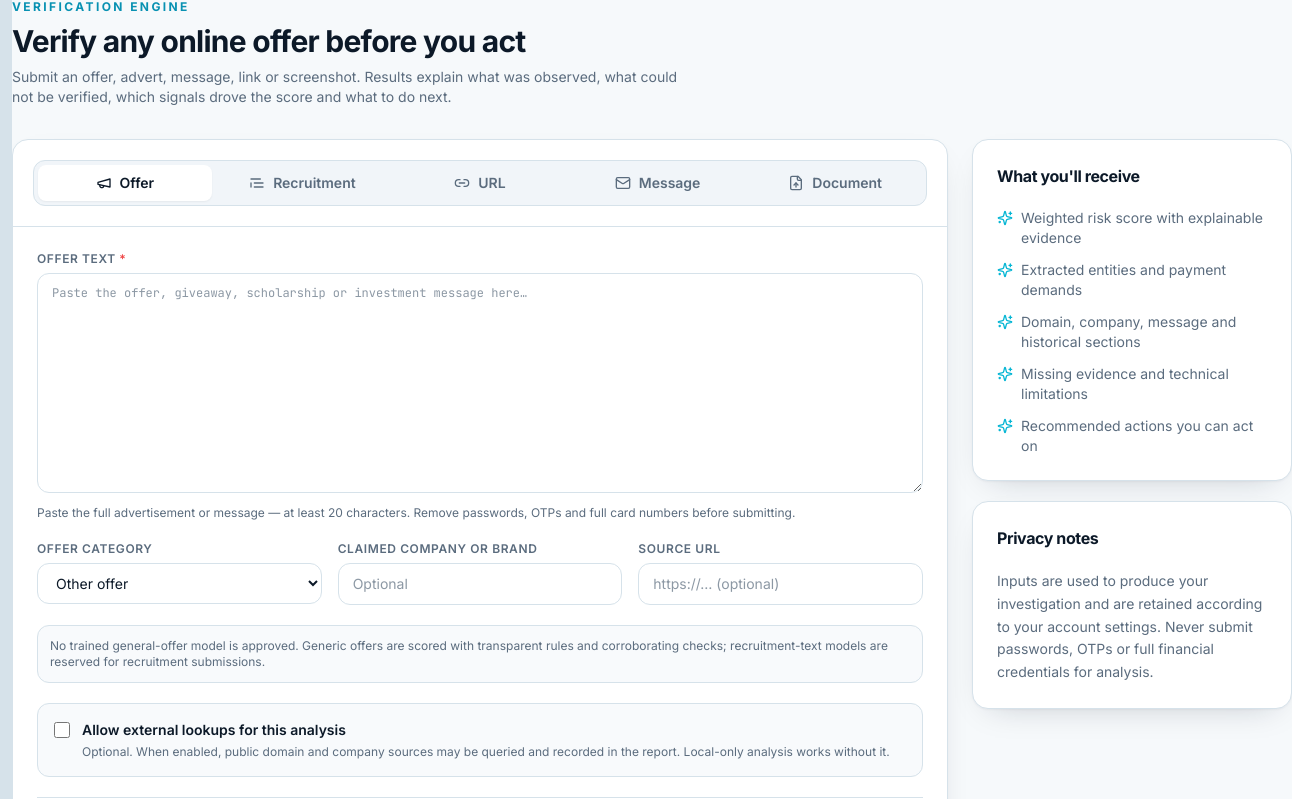
Scenario: analysis workflow › blocks an offer submission with too little text
Click the tab "Offer": (125, 183) [38,165,212,201]
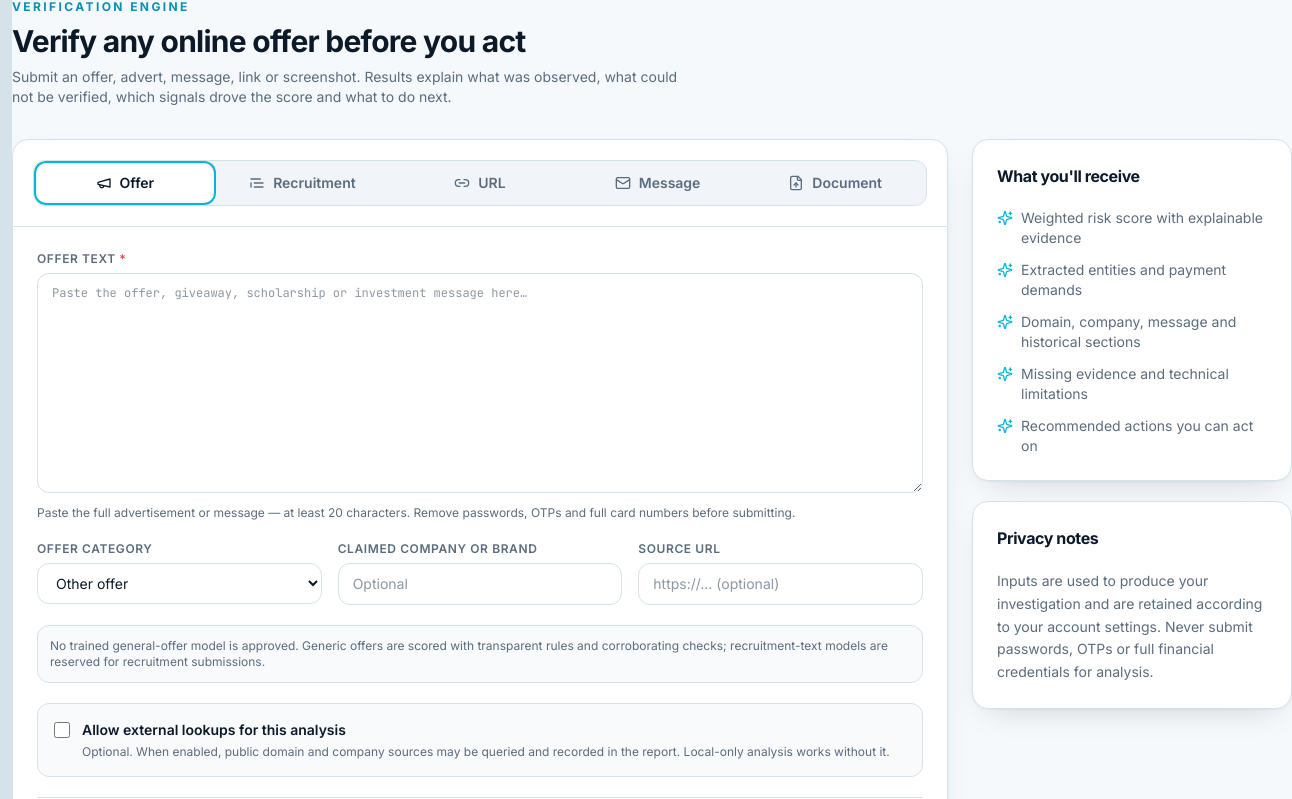
In the text box labelled "Offer text *": (480, 383) [37,273,923,493], type "short"
(page scrolled)
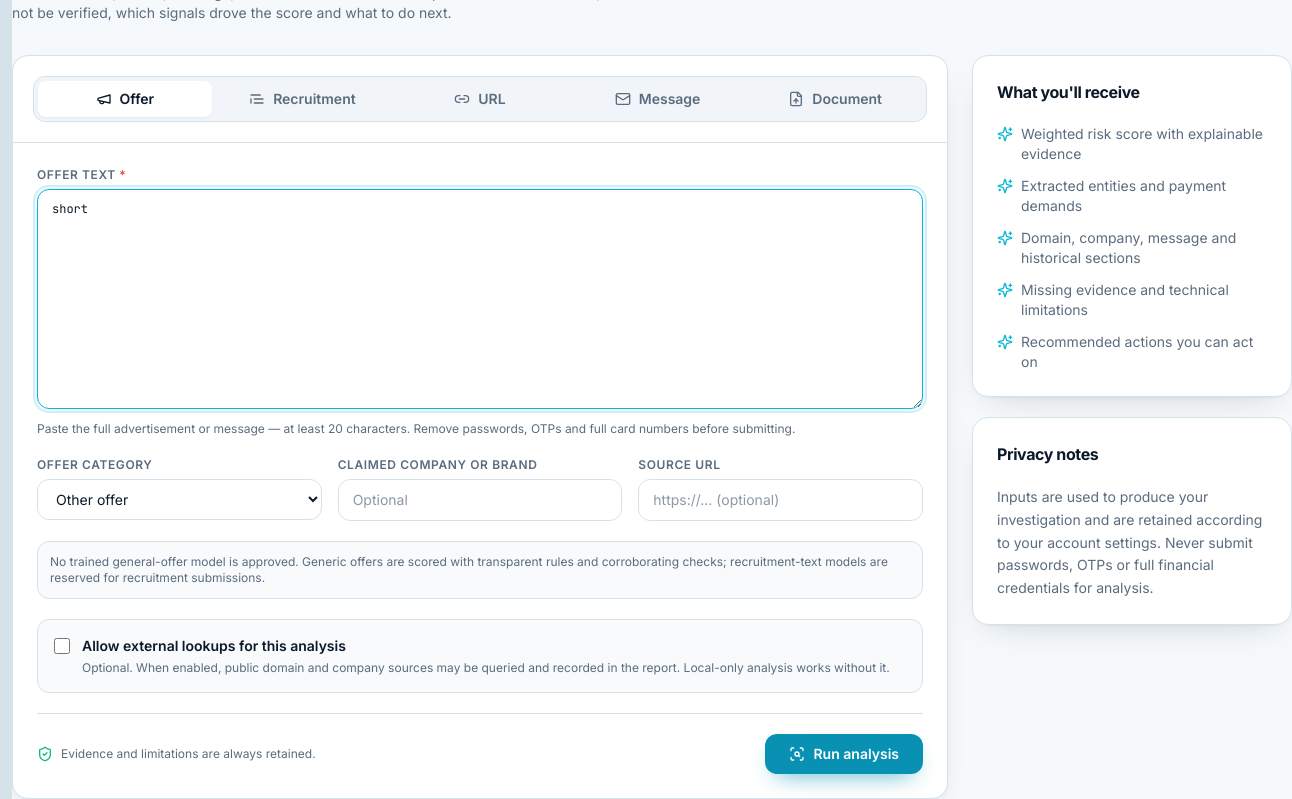
Click the button "Run analysis": (844, 754) [766,734,923,774]
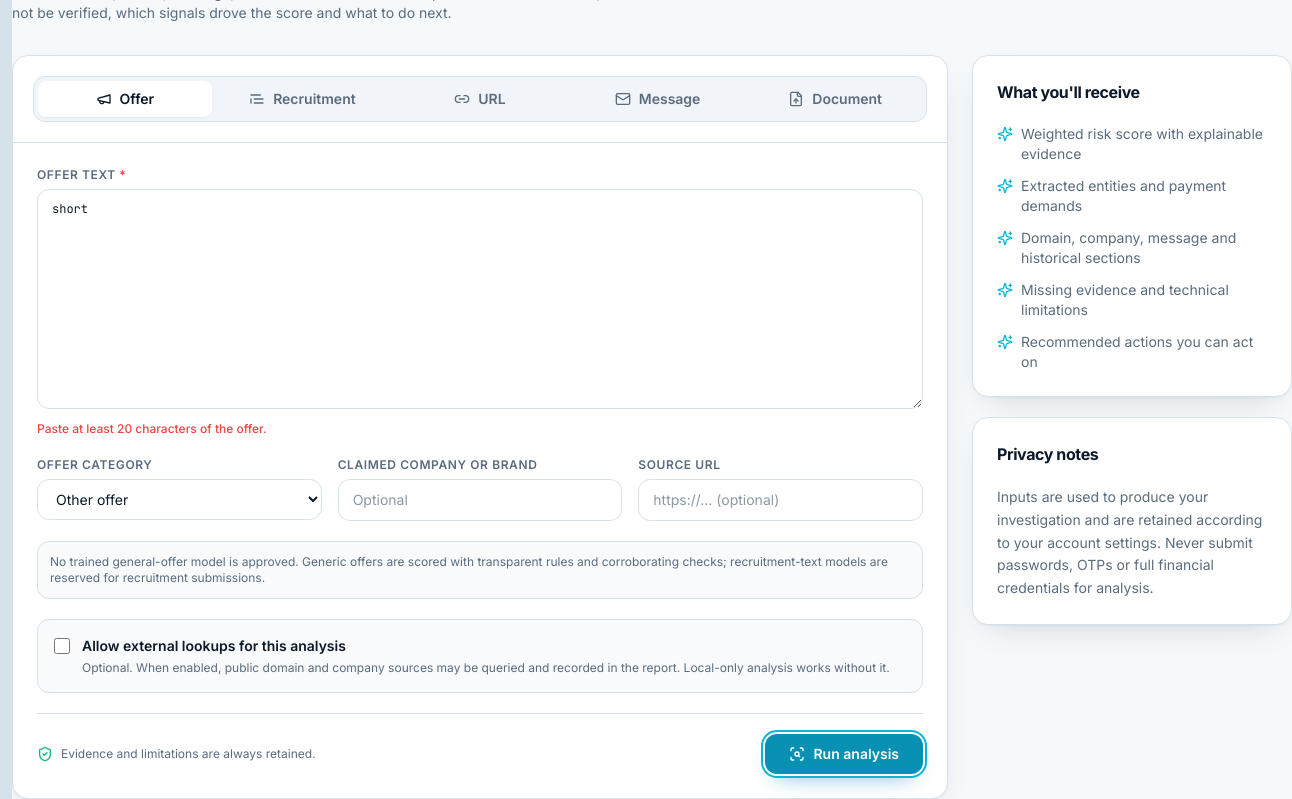
Check: the text "Paste at least 20 characters of the offer." is shown, box [37,421,267,436]
